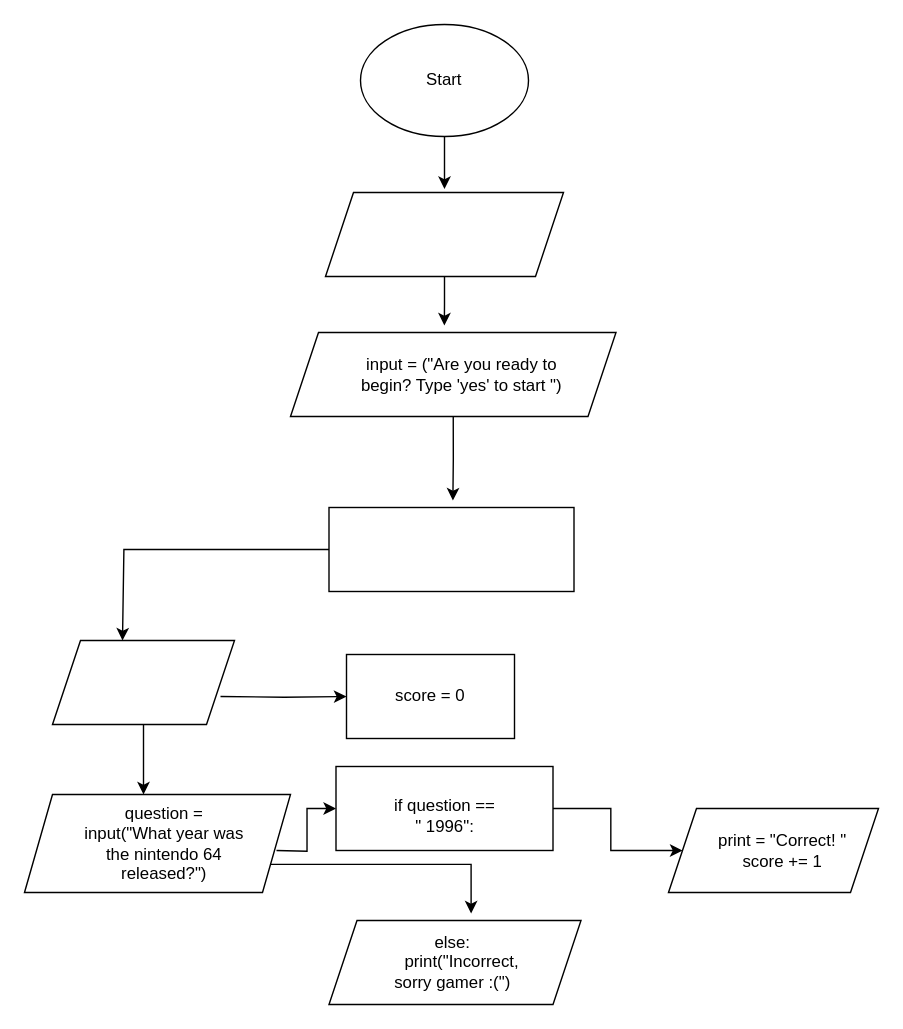
Image size: 903x1029. Some labels were removed from this diagram. Here are the shapes that lost their labels. From the top down, the centre of each, then its label:
point 444,233: Print = "Hello! Welcome to Video Game Trivia!
point 451,549: if playing !="yes"
point 142,681: input("Question 1:")
